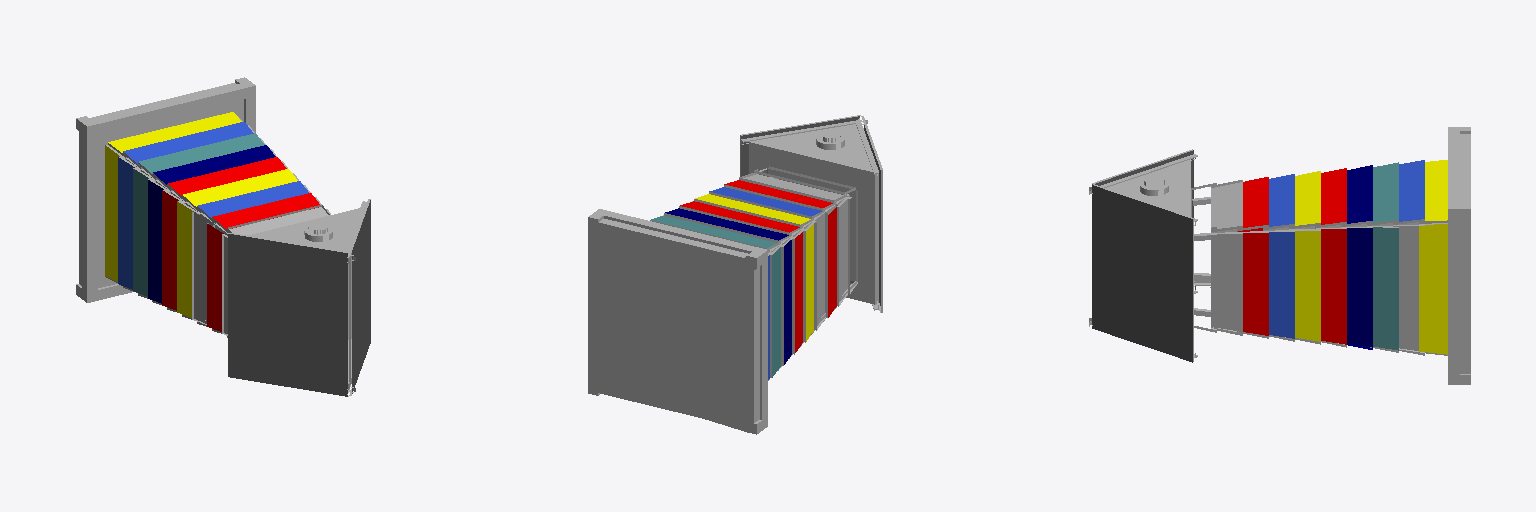
File: Turnul_morii.obj
3 views of the same model, side by side, from view 1: azimuth 30°, elevation 25°; view 2: azimuth 150°, elevation 25°; view 3: azimuth 270°, elevation 25° (orthographic).
Visible parts, largest first — view 1: Mesh2 Mesh1 Turnul_morii_obj Model, Mesh12 Mesh11_1 Turnul_morii_obj Model, Mesh1 Mesh1 Turnul_morii_obj Model, Mesh20 Mesh19_1 Turnul_morii_obj Model, Mesh26 Mesh25_1 Turnul_morii_obj Model, Mesh5 Mesh4_1 Turnul_morii_obj Model, Mesh27 Mesh26_1 Turnul_morii_obj Model, Mesh8 Mesh7_1 Turnul_morii_obj Model, Mesh28 Mesh27_1 Turnul_morii_obj Model, Mesh6 Mesh5_1 Turnul_morii_obj Model, Mesh25 Mesh24_1 Turnul_morii_obj Model, Mesh7 Mesh6_1 Turnul_morii_obj Model (+8 smaller); view 2: Mesh12 Mesh11_1 Turnul_morii_obj Model, Mesh1 Mesh1 Turnul_morii_obj Model, Mesh2 Mesh1 Turnul_morii_obj Model, Mesh4 Mesh3_1 Turnul_morii_obj Model, Mesh23 Mesh22_1 Turnul_morii_obj Model, Mesh26 Mesh25_1 Turnul_morii_obj Model, Mesh28 Mesh27_1 Turnul_morii_obj Model, Mesh27 Mesh26_1 Turnul_morii_obj Model, Mesh24 Mesh23_1 Turnul_morii_obj Model, Mesh6 Mesh5_1 Turnul_morii_obj Model, Mesh25 Mesh24_1 Turnul_morii_obj Model, Mesh7 Mesh6_1 Turnul_morii_obj Model (+6 smaller); view 3: Mesh2 Mesh1 Turnul_morii_obj Model, Mesh12 Mesh11_1 Turnul_morii_obj Model, Mesh21 Mesh20_1 Turnul_morii_obj Model, Mesh19 Mesh18_1 Turnul_morii_obj Model, Mesh18 Mesh17_1 Turnul_morii_obj Model, Mesh17 Mesh16_1 Turnul_morii_obj Model, Mesh16 Mesh15_1 Turnul_morii_obj Model, Mesh15 Mesh14_1 Turnul_morii_obj Model, Mesh13 Mesh12_1 Turnul_morii_obj Model, Mesh9 Mesh8_1 Turnul_morii_obj Model, Mesh1 Mesh1 Turnul_morii_obj Model, Mesh4 Mesh3_1 Turnul_morii_obj Model (+7 smaller).
Boxes of the visible parts, <box> form: Mesh2 Mesh1 Turnul_morii_obj Model: <box>228,199,370,396</box>; Mesh12 Mesh11_1 Turnul_morii_obj Model: <box>76,77,255,302</box>; Mesh1 Mesh1 Turnul_morii_obj Model: <box>247,208,359,389</box>; Mesh20 Mesh19_1 Turnul_morii_obj Model: <box>118,156,140,289</box>; Mesh26 Mesh25_1 Turnul_morii_obj Model: <box>133,168,155,296</box>; Mesh5 Mesh4_1 Turnul_morii_obj Model: <box>123,122,253,168</box>; Mesh27 Mesh26_1 Turnul_morii_obj Model: <box>162,190,184,310</box>; Mesh8 Mesh7_1 Turnul_morii_obj Model: <box>138,133,264,179</box>; Mesh28 Mesh27_1 Turnul_morii_obj Model: <box>148,178,170,303</box>; Mesh6 Mesh5_1 Turnul_morii_obj Model: <box>152,145,275,190</box>; Mesh25 Mesh24_1 Turnul_morii_obj Model: <box>177,201,199,317</box>; Mesh7 Mesh6_1 Turnul_morii_obj Model: <box>167,157,286,201</box>; Mesh12 Mesh11_1 Turnul_morii_obj Model: <box>588,209,767,434</box>; Mesh1 Mesh1 Turnul_morii_obj Model: <box>749,124,878,304</box>; Mesh2 Mesh1 Turnul_morii_obj Model: <box>740,115,882,312</box>; Mesh4 Mesh3_1 Turnul_morii_obj Model: <box>739,166,855,202</box>; Mesh23 Mesh22_1 Turnul_morii_obj Model: <box>837,190,857,306</box>; Mesh26 Mesh25_1 Turnul_morii_obj Model: <box>770,244,781,377</box>; Mesh28 Mesh27_1 Turnul_morii_obj Model: <box>781,236,793,365</box>; Mesh27 Mesh26_1 Turnul_morii_obj Model: <box>792,228,804,354</box>; Mesh24 Mesh23_1 Turnul_morii_obj Model: <box>814,212,827,330</box>; Mesh6 Mesh5_1 Turnul_morii_obj Model: <box>664,208,791,242</box>; Mesh25 Mesh24_1 Turnul_morii_obj Model: <box>803,220,815,342</box>; Mesh7 Mesh6_1 Turnul_morii_obj Model: <box>679,201,802,234</box>; Mesh2 Mesh1 Turnul_morii_obj Model: <box>1092,149,1193,362</box>; Mesh12 Mesh11_1 Turnul_morii_obj Model: <box>1419,127,1470,384</box>; Mesh21 Mesh20_1 Turnul_morii_obj Model: <box>1367,226,1398,350</box>; Mesh19 Mesh18_1 Turnul_morii_obj Model: <box>1341,227,1372,347</box>; Mesh18 Mesh17_1 Turnul_morii_obj Model: <box>1211,233,1242,331</box>; Mesh17 Mesh16_1 Turnul_morii_obj Model: <box>1316,228,1346,344</box>; Mesh16 Mesh15_1 Turnul_morii_obj Model: <box>1289,229,1320,341</box>; Mesh15 Mesh14_1 Turnul_morii_obj Model: <box>1263,231,1294,338</box>; Mesh13 Mesh12_1 Turnul_morii_obj Model: <box>1237,232,1268,335</box>; Mesh9 Mesh8_1 Turnul_morii_obj Model: <box>1393,225,1424,352</box>; Mesh1 Mesh1 Turnul_morii_obj Model: <box>1107,159,1190,216</box>; Mesh4 Mesh3_1 Turnul_morii_obj Model: <box>1191,180,1242,231</box>.
Bounding box in the file's own units: 648 × 648 × 1270.